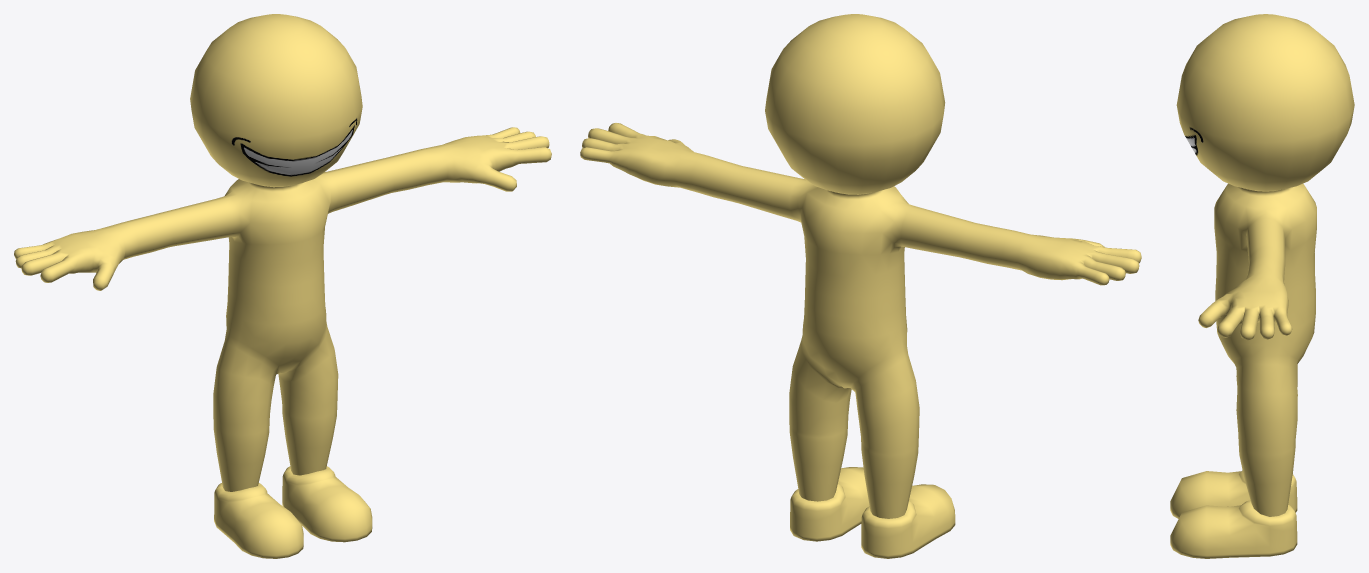
Rendered from Send_Men.fbx.
The picture shows the model from 3 angles, left to right: view 1: azimuth 30°, elevation 25°; view 2: azimuth 150°, elevation 25°; view 3: azimuth 270°, elevation 25°; orthographic projection. The views are drawn at different scales.
Parts seen in each view (by area): view 1: Character-3; view 2: Character-3; view 3: Character-3.
Boxes of the visible parts, bbox=[...] form: Character-3: bbox=[14, 14, 551, 558]; Character-3: bbox=[580, 14, 1141, 558]; Character-3: bbox=[1170, 14, 1354, 558].
Bounding box in the file's own units: 189 × 169 × 55.92.
